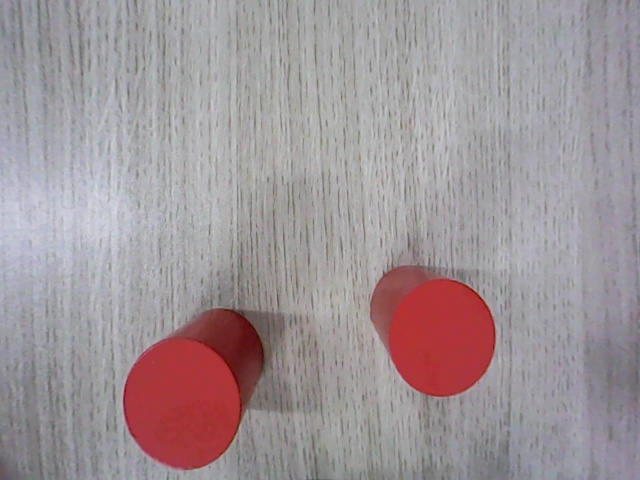upside of cylinder: (124, 335, 242, 469), (389, 278, 497, 400)
